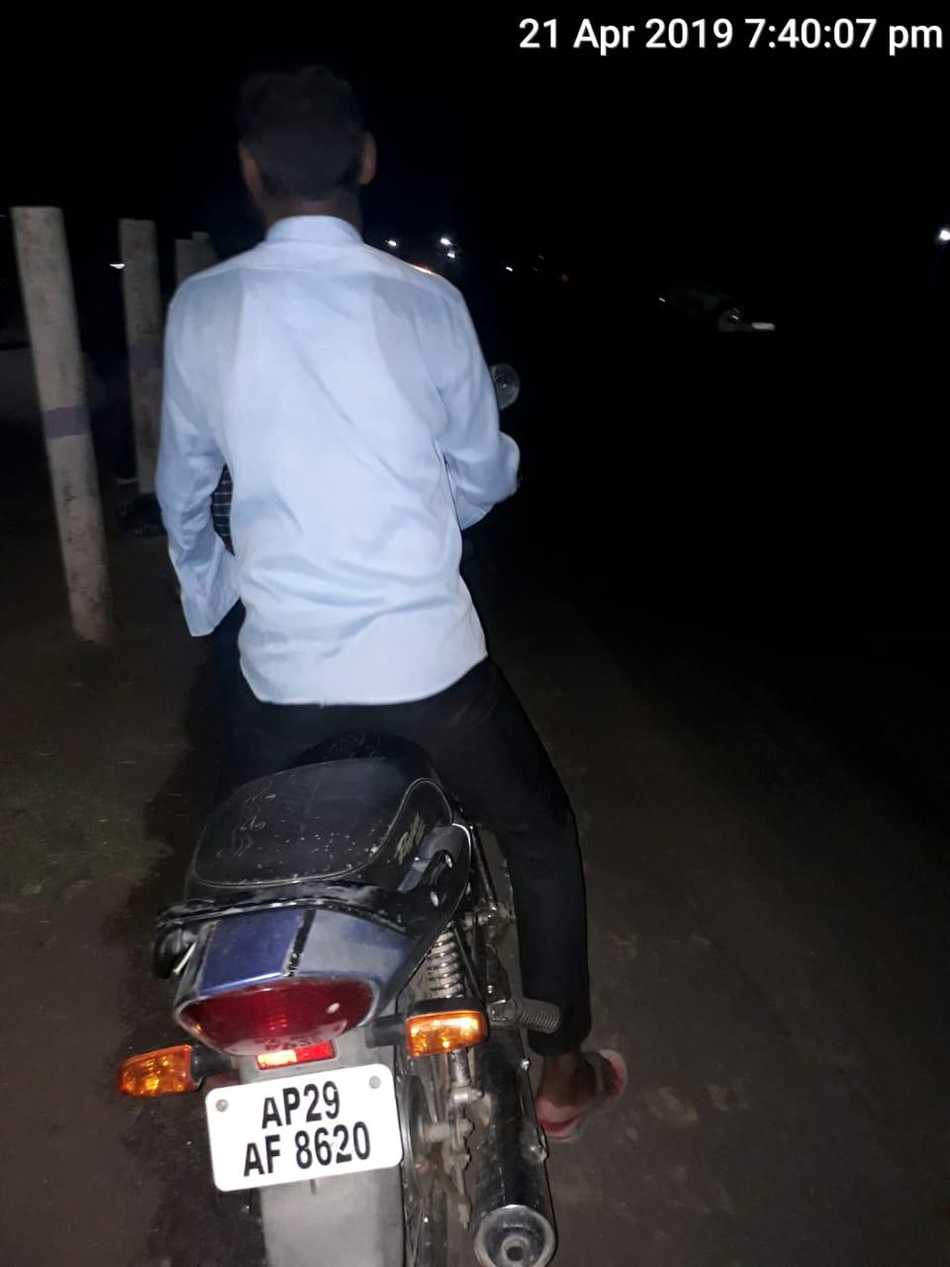plate: (150, 1042, 463, 1215)
